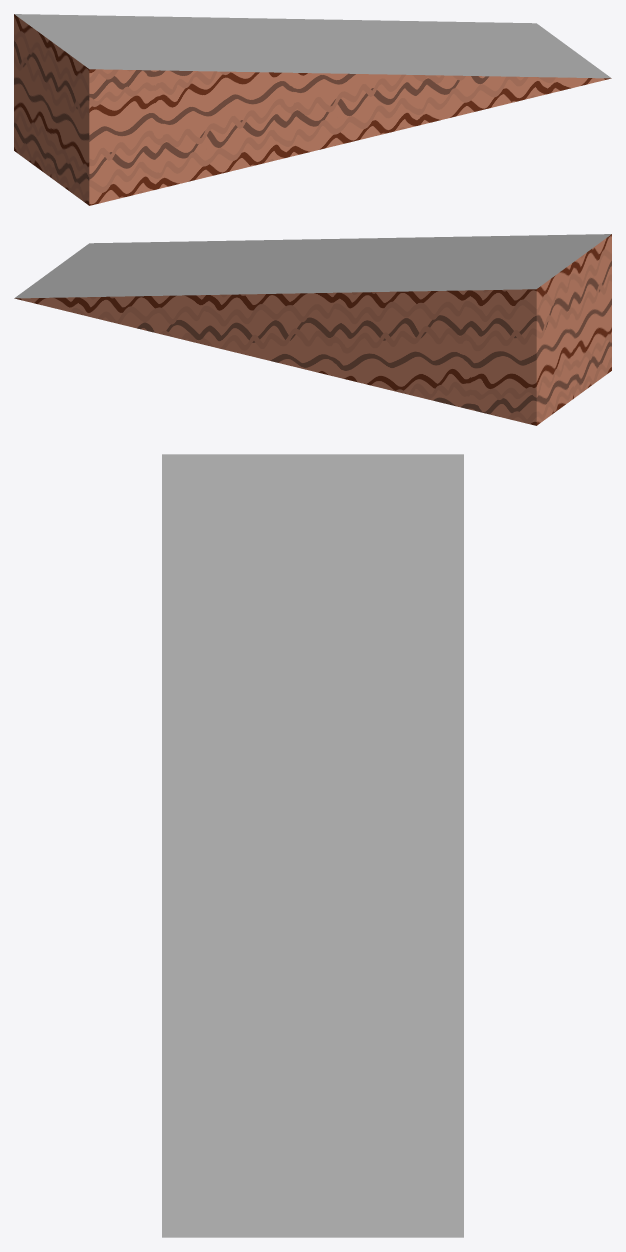
The model's file is a_z2_ground_05.fbx.
3 renders of one model, top to bottom at view 1: azimuth 30°, elevation 25°; view 2: azimuth 150°, elevation 25°; view 3: azimuth 270°, elevation 25°, orthographic. The views are drawn at different scales.
Parts seen in each view (by area): view 1: a_z2_ground_05; view 2: a_z2_ground_05; view 3: a_z2_ground_05.
Boxes of the visible parts, left/top/right/bottom form: a_z2_ground_05: left=14, top=14, right=611, bottom=205; a_z2_ground_05: left=14, top=234, right=611, bottom=425; a_z2_ground_05: left=162, top=454, right=463, bottom=1237.
Size of the model in its own units: 1200 by 300 by 300.
2 materials, 1 textured.
